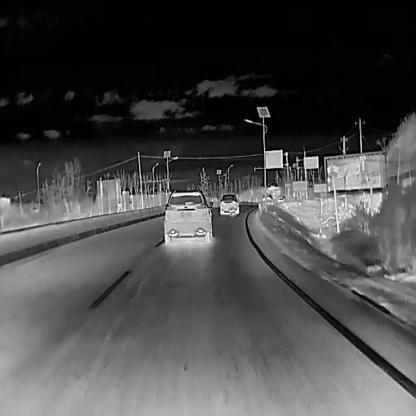car: (162, 190, 213, 245), (219, 193, 239, 215), (261, 193, 274, 205), (276, 195, 284, 202)
